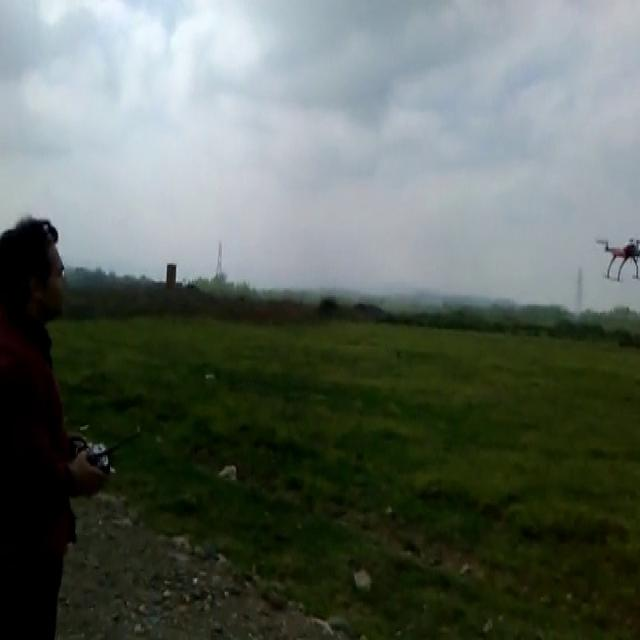drone: (594, 231, 639, 283)
